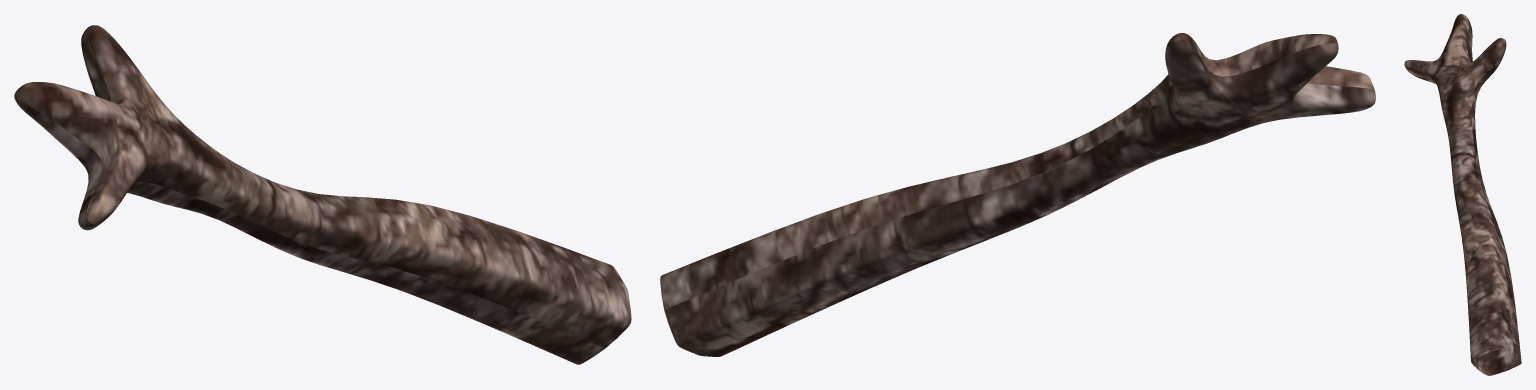
The model's file is ArmLeft.obj.
3 views of the same model, side by side, from view 1: azimuth 30°, elevation 25°; view 2: azimuth 150°, elevation 25°; view 3: azimuth 270°, elevation 25° (orthographic). The views are drawn at different scales.
Visible parts, largest first — view 1: hands; view 2: hands; view 3: hands.
Part boxes in pixels (x1,y1,x2,y2): hands: (14, 25, 631, 364); hands: (660, 33, 1375, 356); hands: (1404, 14, 1521, 375).
Size of the model in its own units: 0.868 by 0.5806 by 0.2768.
1 material, 1 textured.
